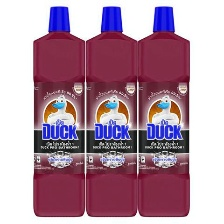cleaning_solution: (134, 3, 191, 219), (31, 3, 88, 219), (83, 3, 139, 219)
